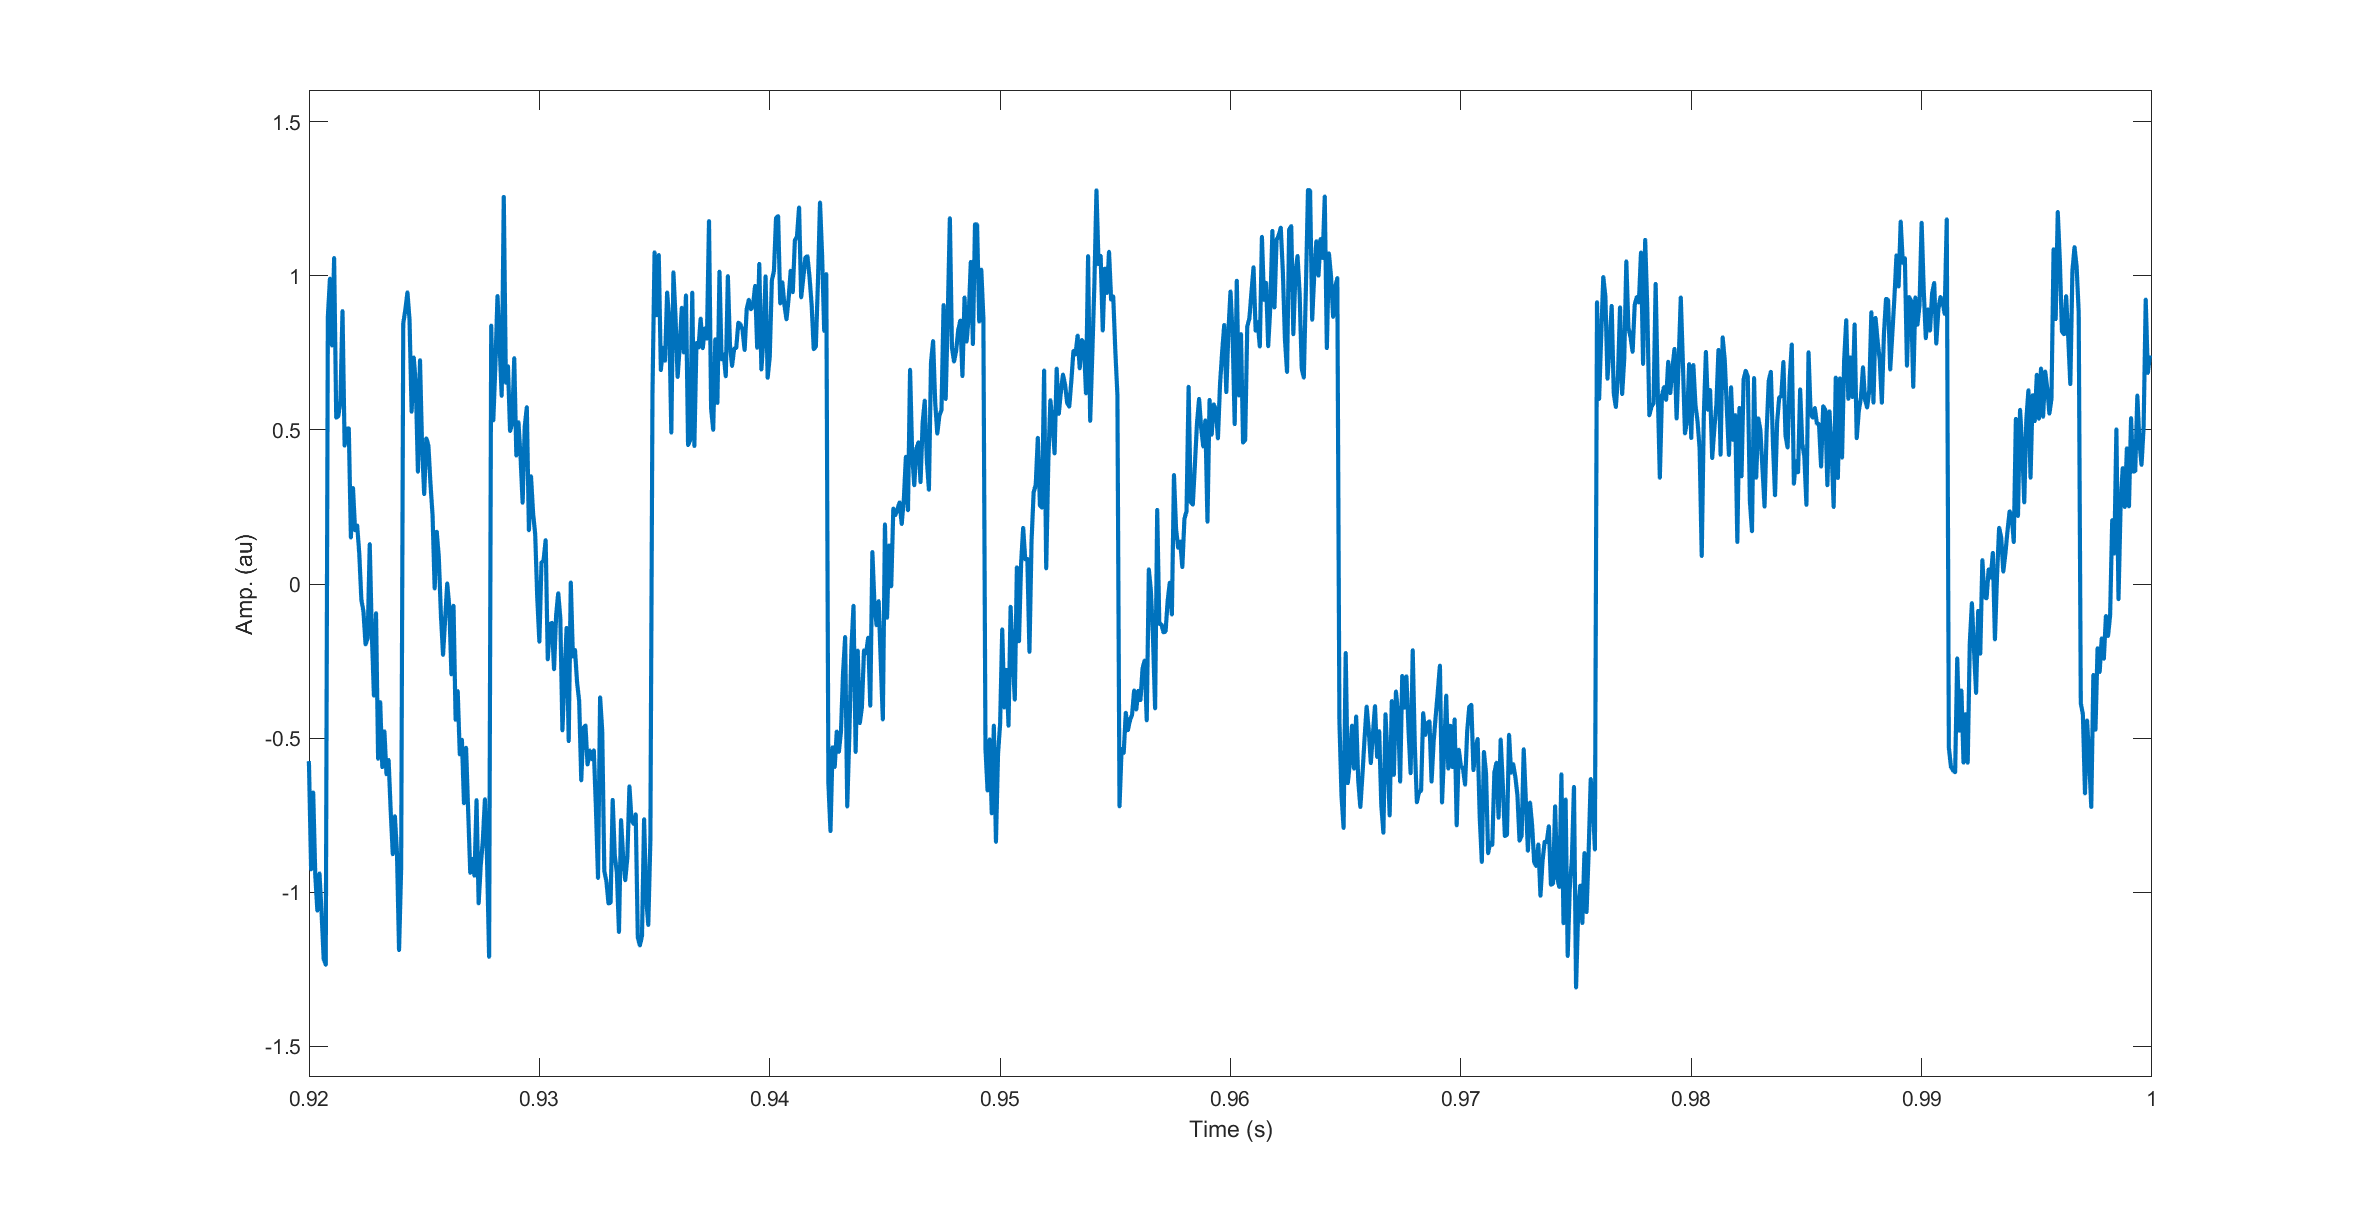negative_fringe: (483, 170, 620, 955), (387, 270, 468, 958), (319, 253, 369, 958)
positive_fringe: (1145, 167, 1347, 784), (847, 208, 1000, 840), (1971, 205, 2094, 823), (1009, 174, 1130, 782)
